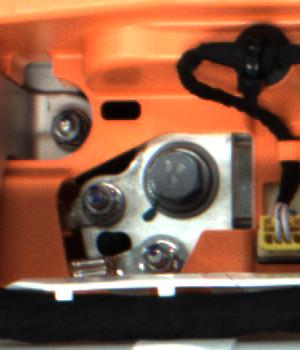nut_b: (138, 141, 221, 213)
screw_s: (75, 178, 116, 222), (140, 240, 179, 277), (51, 105, 83, 149)
